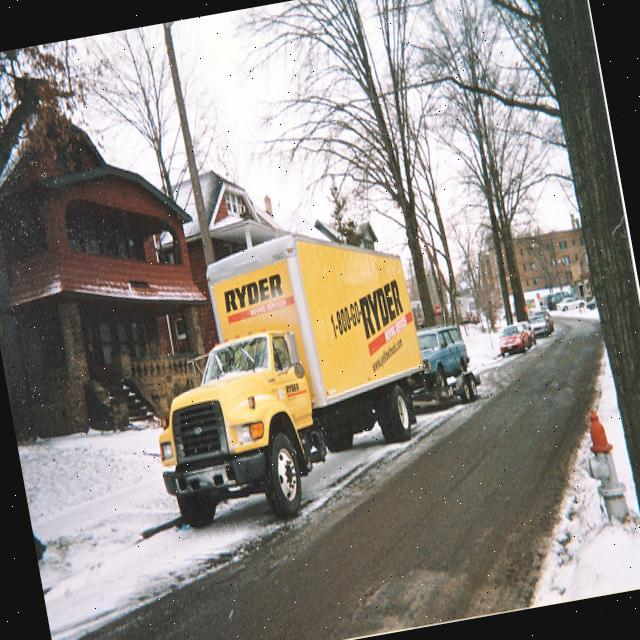fire_hydrant: (572, 404, 630, 527)
